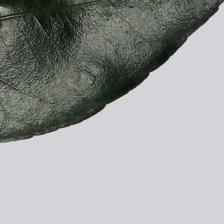healthy: (0, 4, 210, 136)
